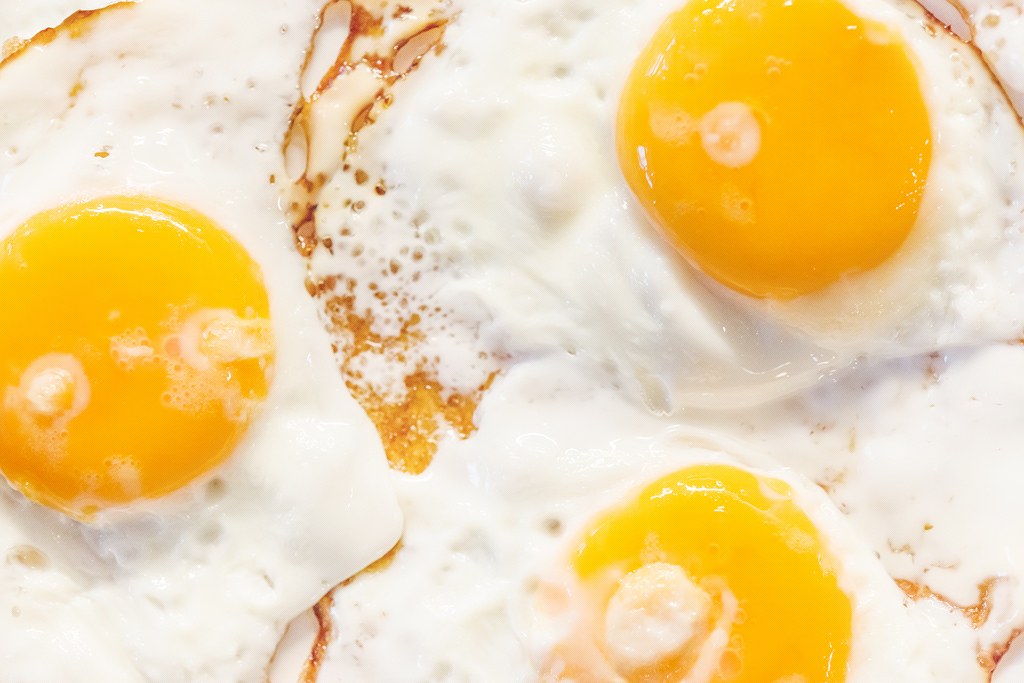fried egg: (1, 41, 1017, 682)
